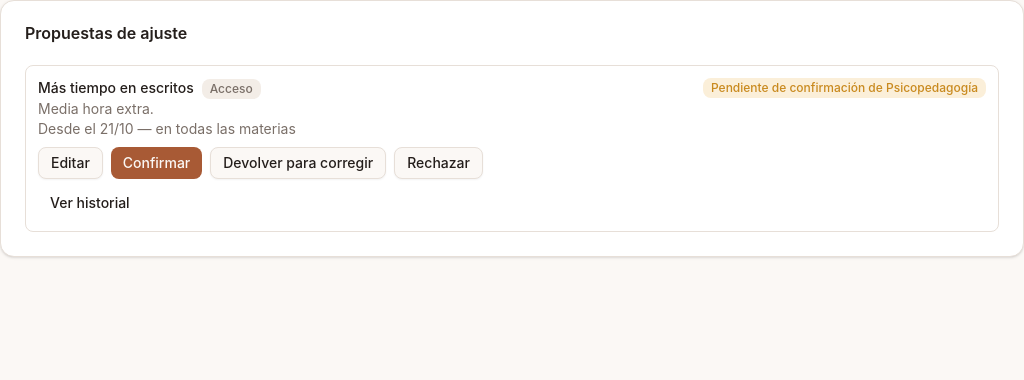
Test: AccommodationProposalsSection › refetches the list when someone else already moved the proposal
Click the button "Rechazar" at (439, 163), box top-left (394, 147), bottom-right (483, 179)
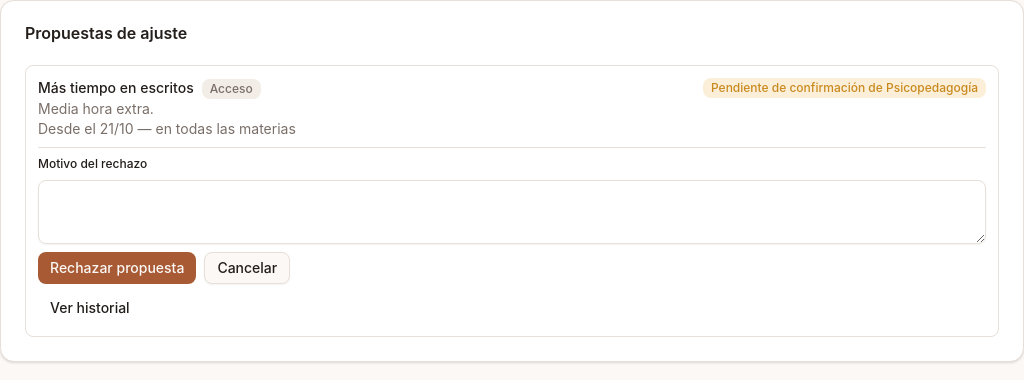
Type "No corresponde" into the text box labelled "Motivo del rechazo" at (512, 212), box top-left (38, 180), bottom-right (986, 244)
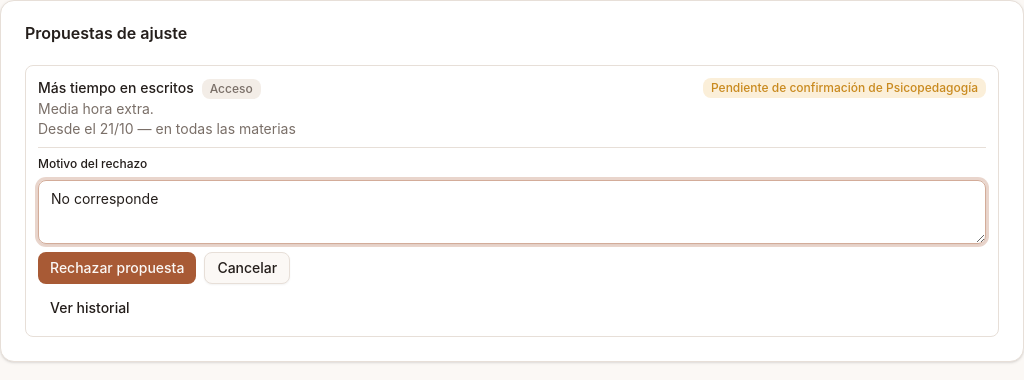
Click the button "Rechazar propuesta" at (117, 268), box top-left (38, 252), bottom-right (196, 284)
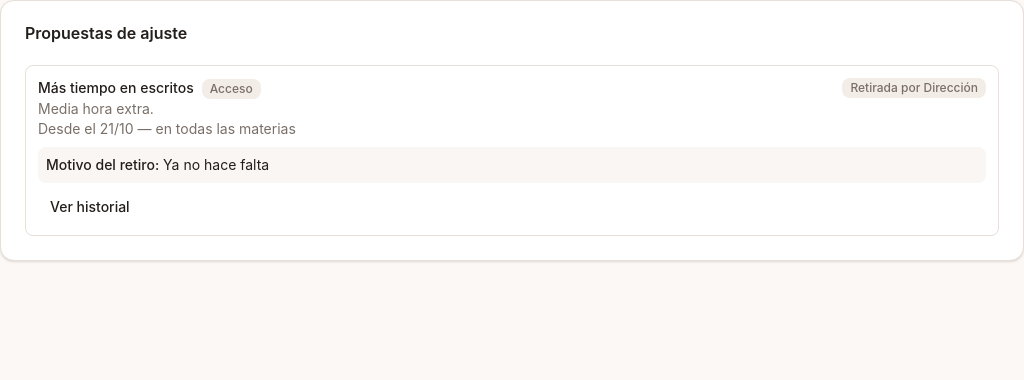
Expected: the button "Rechazar" is not shown
Result: the text "Retirada por Dirección" is shown at top-left (842, 78), bottom-right (986, 98)
